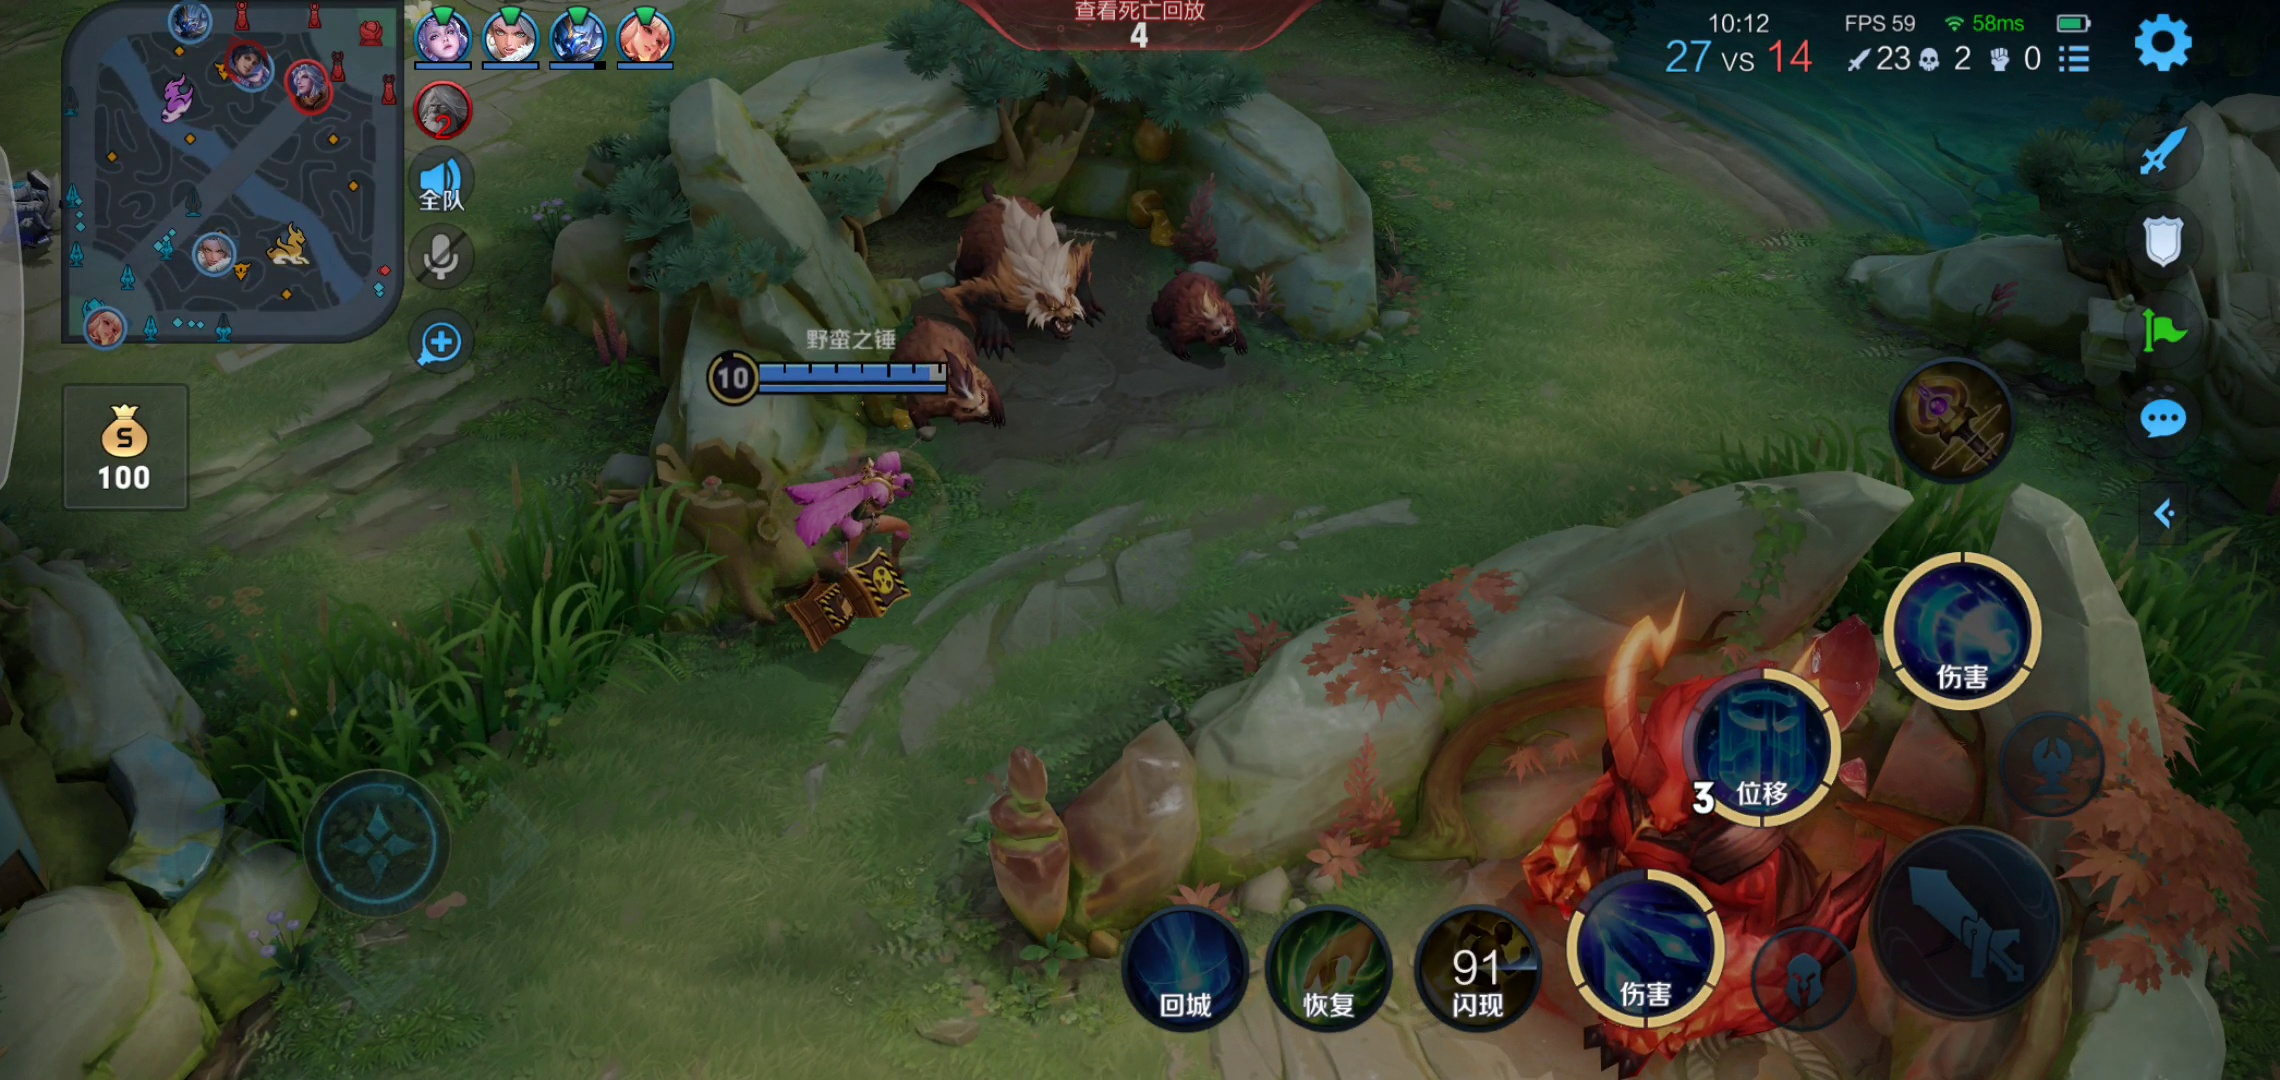buff: (1533, 644, 1889, 1054)
grass: (1722, 417, 2279, 783), (222, 512, 667, 847)
hero: (769, 436, 950, 642)
soldier: (1, 169, 45, 240)
wild_monster: (875, 206, 1240, 459)
